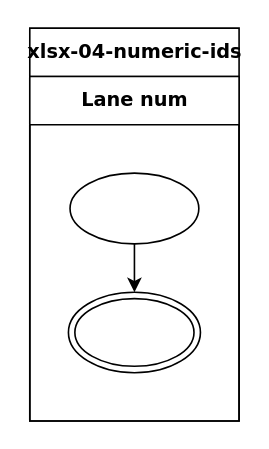
The diagram is 269 pixels wide and 449 high, and some of its shapes have lost their labels. Here are the shapes that lost their labels. From the top down, the centre of each, then its label:
the point at 133,207: Enter
the point at 133,332: Done
